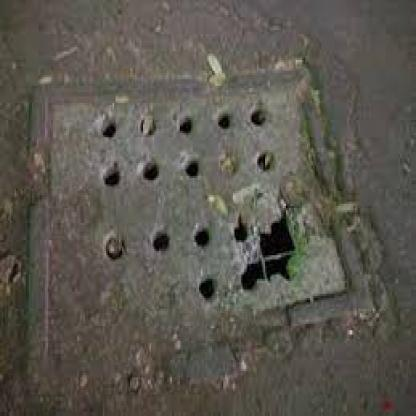open drainage-not overflowing-: (18, 93, 377, 354)
